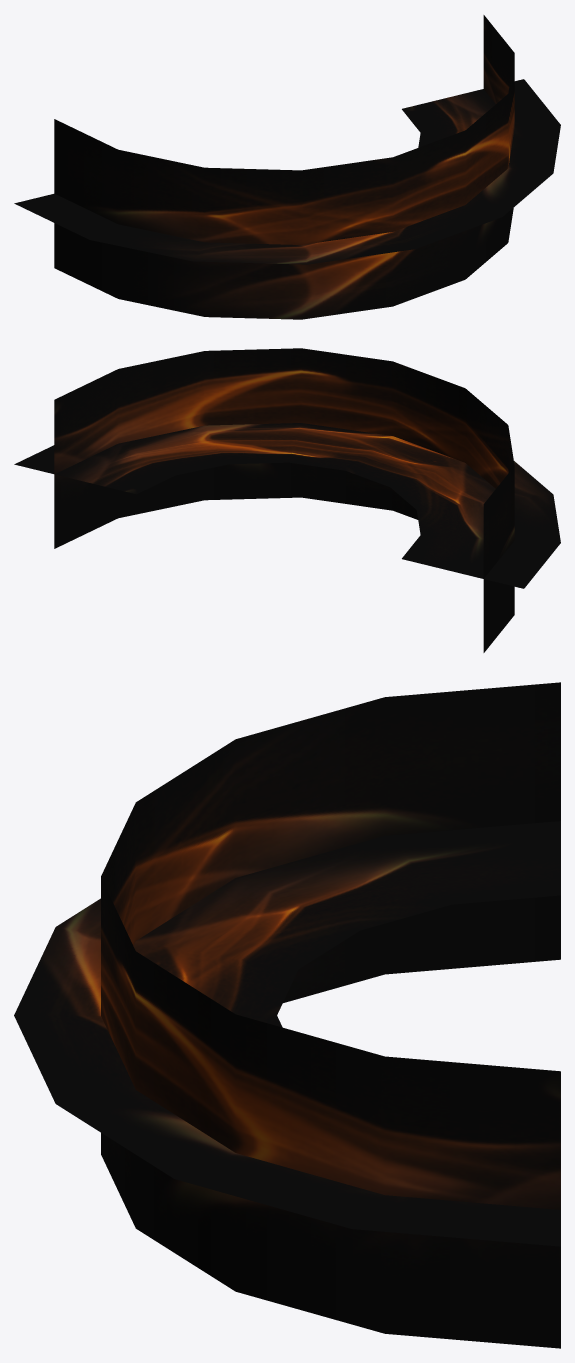
Rendered from HoleCylinder_typeC.fbx.
The picture shows the model from 3 angles, top to bottom: view 1: azimuth 30°, elevation 25°; view 2: azimuth 150°, elevation 25°; view 3: azimuth 270°, elevation 25°; orthographic projection. The views are drawn at different scales.
Visible parts, largest first — view 1: cylinder1, cylinder; view 2: cylinder1, cylinder; view 3: cylinder1, cylinder.
Boxes of the visible parts, box(x1,y1,x2,y2) form: cylinder1: box(54, 15, 514, 319); cylinder: box(14, 79, 560, 264); cylinder1: box(54, 348, 514, 652); cylinder: box(14, 423, 560, 588); cylinder1: box(101, 682, 560, 1348); cylinder: box(14, 821, 560, 1246).
Size of the model in its own units: 71.32 by 19.95 by 35.66.
Materials: 1 (1 with a texture image).
